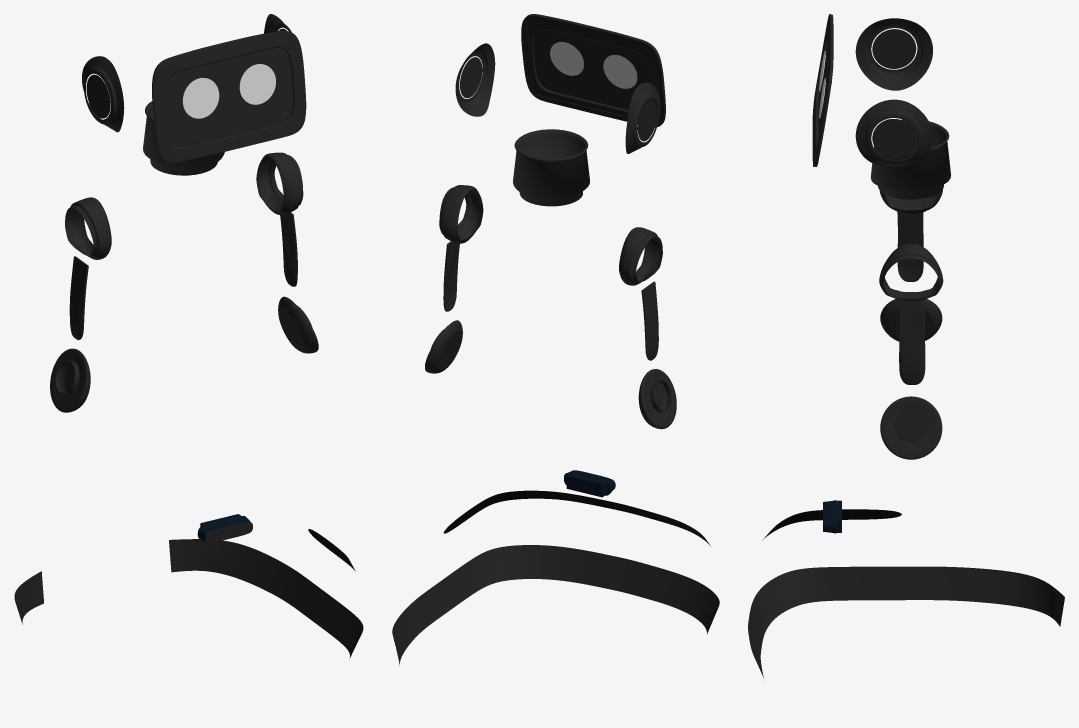
The model's file is 01 Default - Black.glb.
3 renders of one model, left to right at view 1: azimuth 30°, elevation 25°; view 2: azimuth 150°, elevation 25°; view 3: azimuth 270°, elevation 25°, orthographic. The views are drawn at different scales.
Parts seen in each view (by area): view 1: AMR Casing.002, M03 10`` Display.001, Bazzel.002, Cylinder.002, ARM CASING - Sealing, ARM CASING - Sealing.001, ARM CASING - PAD.001, EAR Block.001, M03 Neck Block, ARM CASING - PAD, ARM CASING Bottom.001, Cube (+2 smaller); view 2: AMR Casing.002, M03 Neck Block, M03 10`` Display.001, Bazzel.002, EAR Block.001, AMR Casing, ARM CASING - Sealing, ARM CASING - Sealing.001, ARM CASING - PAD.001, Cylinder.002, Cylinder.004, ARM CASING - PAD (+3 smaller); view 3: AMR Casing.002, EAR Block.001, M03 Neck Block, ARM CASING - PAD, Cylinder.004, ARM CASING Bottom, ARM CASING - Sealing, Bazzel.002, ARM CASING Bottom.001, ARM CASING - PAD.001, AMR Casing, ARM CASING - Sealing.001 (+1 smaller).
Boxes of the visible parts, x1,y1,x2,y2 form: AMR Casing.002: [14, 539, 363, 658]; M03 10`` Display.001: [165, 48, 293, 146]; Bazzel.002: [152, 30, 306, 163]; Cylinder.002: [182, 64, 275, 118]; ARM CASING - Sealing: [256, 152, 303, 214]; ARM CASING - Sealing.001: [65, 197, 111, 259]; ARM CASING - PAD.001: [50, 348, 90, 412]; EAR Block.001: [82, 14, 291, 132]; M03 Neck Block: [143, 101, 224, 175]; ARM CASING - PAD: [278, 296, 318, 353]; ARM CASING Bottom.001: [69, 256, 88, 340]; Cube: [197, 514, 252, 542]; AMR Casing.002: [392, 545, 719, 665]; M03 Neck Block: [513, 129, 589, 206]; M03 10`` Display.001: [526, 20, 658, 124]; Bazzel.002: [521, 14, 665, 127]; EAR Block.001: [455, 43, 660, 153]; AMR Casing: [443, 490, 710, 545]; ARM CASING - Sealing: [439, 185, 483, 243]; ARM CASING - Sealing.001: [619, 227, 662, 285]; ARM CASING - PAD.001: [638, 369, 676, 429]; Cylinder.002: [550, 42, 637, 88]; Cylinder.004: [460, 57, 657, 141]; ARM CASING - PAD: [425, 320, 462, 373]; AMR Casing.002: [748, 566, 1064, 677]; EAR Block.001: [855, 18, 932, 166]; M03 Neck Block: [870, 119, 950, 199]; ARM CASING - PAD: [880, 396, 942, 459]; Cylinder.004: [872, 29, 916, 158]; ARM CASING Bottom: [899, 307, 925, 384]; ARM CASING - Sealing: [879, 244, 943, 302]; Bazzel.002: [812, 14, 833, 166]; ARM CASING Bottom.001: [897, 211, 923, 281]; ARM CASING - PAD.001: [880, 299, 942, 341]; AMR Casing: [762, 509, 901, 540]; ARM CASING - Sealing.001: [879, 189, 942, 214].
Bounding box in the file's own units: 0.459 × 1.08 × 0.5044.
